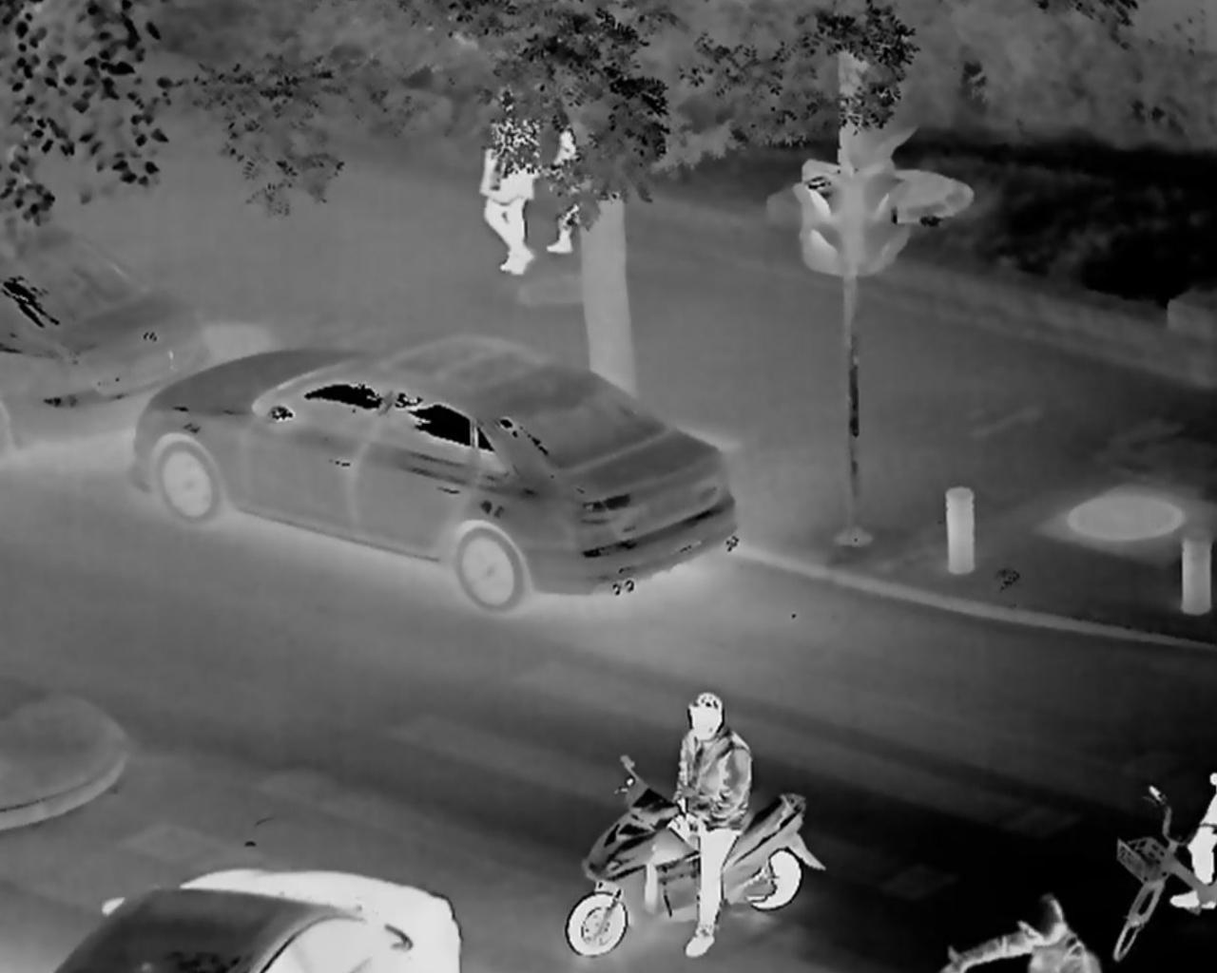person: (651, 687, 753, 956), (942, 888, 1099, 973), (480, 95, 544, 276), (1172, 761, 1217, 910), (556, 111, 586, 264)
